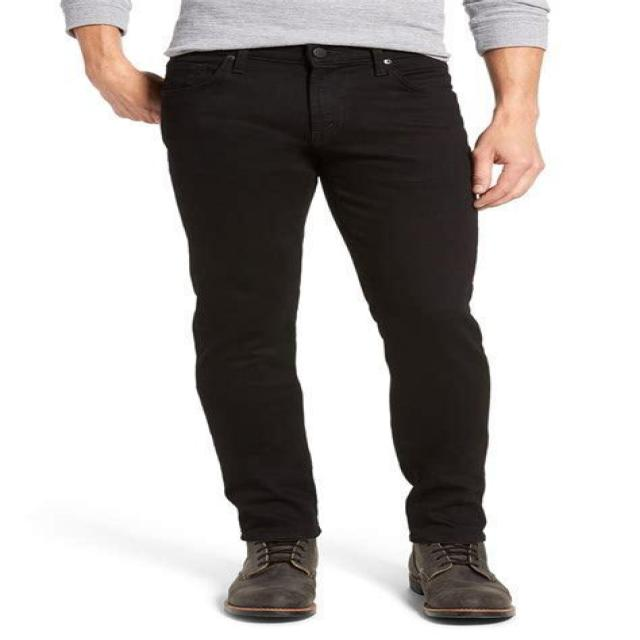pants: (164, 47, 492, 543)
